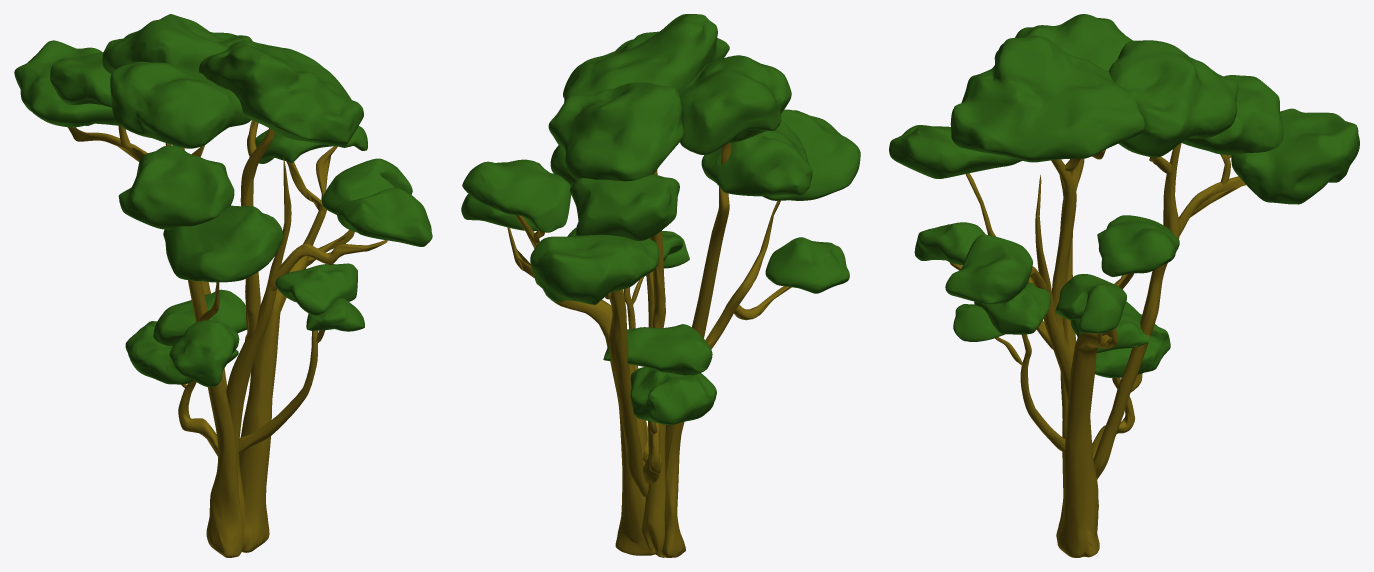
The model's file is AfricaTree02.fbx.
3 renders of one model, left to right at view 1: azimuth 30°, elevation 25°; view 2: azimuth 150°, elevation 25°; view 3: azimuth 270°, elevation 25°, orthographic. The views are drawn at different scales.
Parts seen in each view (by area): view 1: Leaves, Trunk; view 2: Leaves, Trunk; view 3: Leaves, Trunk.
Boxes of the visible parts, x1,y1,x2,y2 form: Leaves: (14, 14, 432, 387); Trunk: (68, 120, 387, 557); Leaves: (461, 14, 860, 424); Trunk: (507, 143, 791, 557); Leaves: (889, 14, 1359, 377); Trunk: (949, 142, 1246, 557).
Size of the model in its own units: 261 by 415 by 350.
